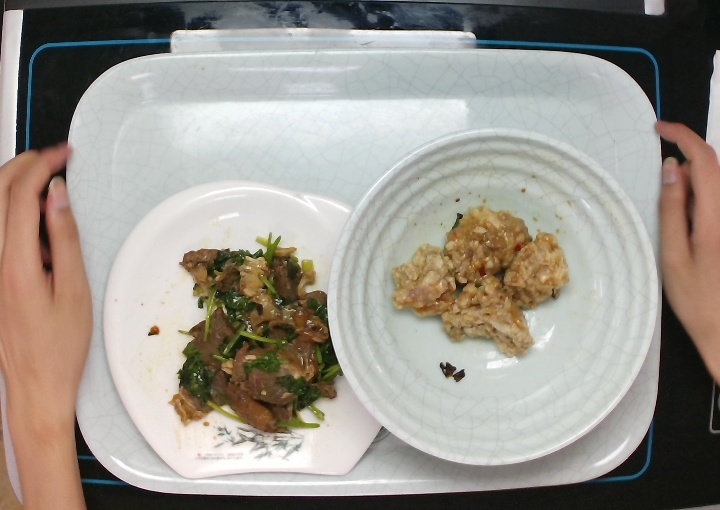JYsf-Da_Tang_Wan: (326, 121, 662, 470)
JYsf-Mian_Pan: (96, 180, 409, 484)
